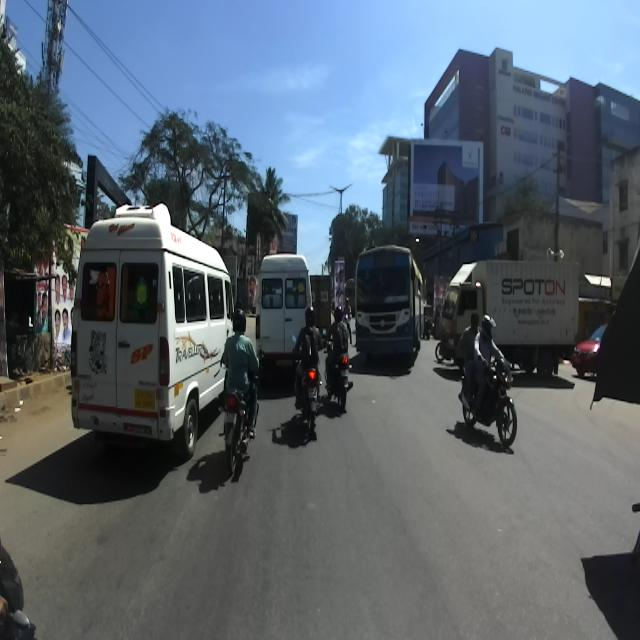bus ahead at: (70, 198, 240, 464), (352, 246, 426, 376)
motorcycle ahead at: (450, 358, 520, 453), (219, 380, 257, 475), (298, 365, 326, 433)
